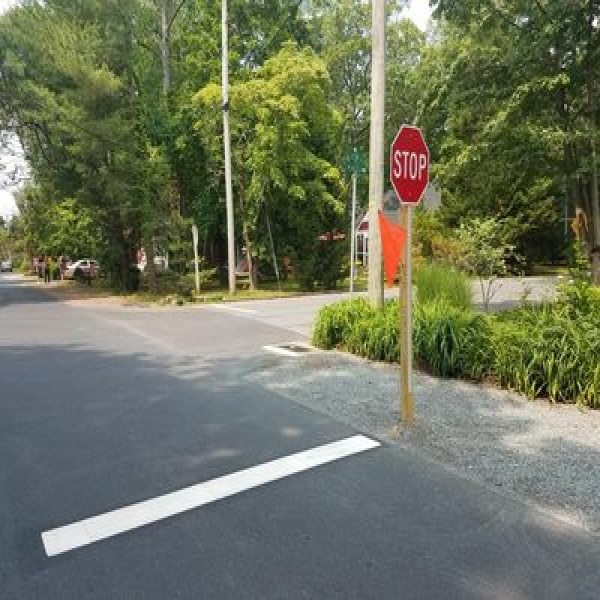stop: (391, 127, 431, 206)
